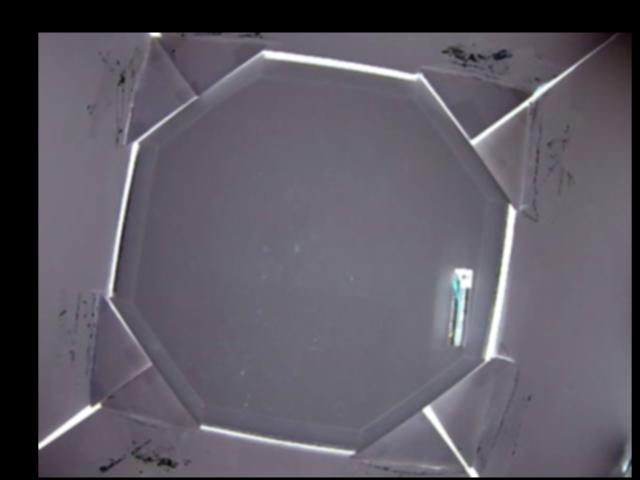Battery: (449, 269, 474, 348)
